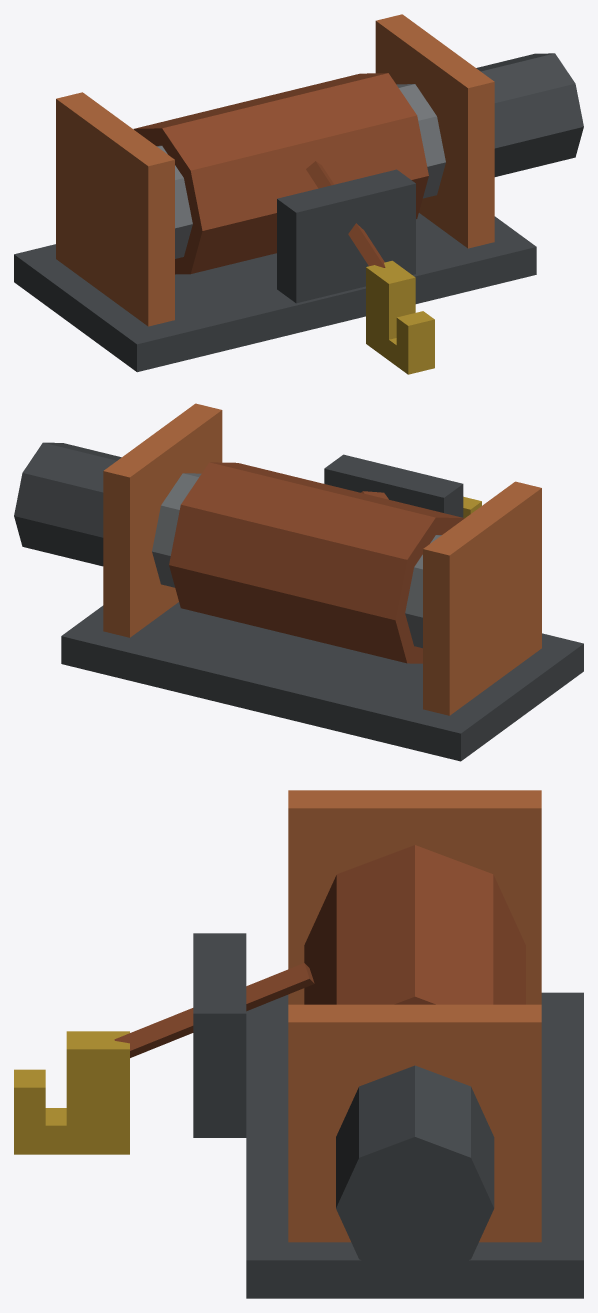
File: item_winch.glb
3 renders of one model, top to bottom at view 1: azimuth 30°, elevation 25°; view 2: azimuth 150°, elevation 25°; view 3: azimuth 270°, elevation 25°, orthographic. The views are drawn at different scales.
Visible parts, largest first — view 1: winch; view 2: winch; view 3: winch.
Boxes of the visible parts, box(x1,y1,x2,y2) form: winch: box(14, 14, 583, 374); winch: box(14, 403, 583, 761); winch: box(14, 790, 583, 1298).
Size of the model in its own units: 0.576 by 0.216 by 0.432.
